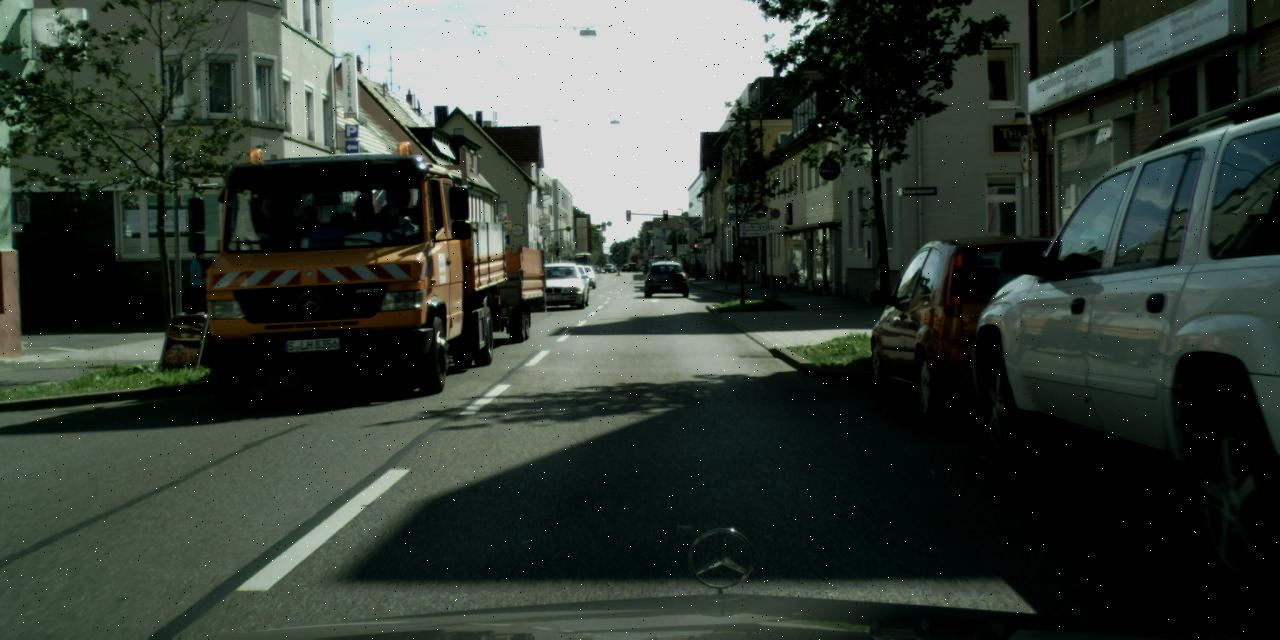ped: (181, 250, 212, 325), (694, 260, 701, 278), (681, 258, 686, 273)
